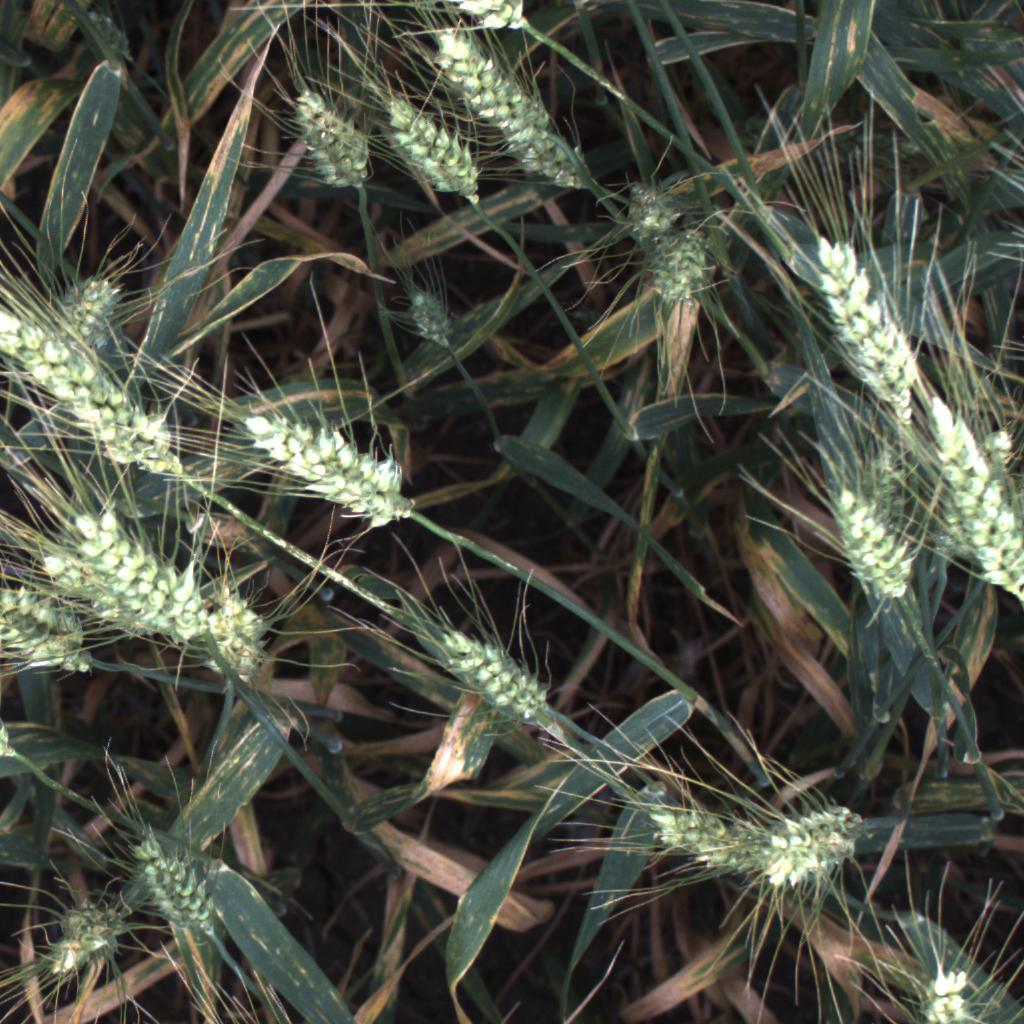0-0: (0, 302, 194, 488), (800, 222, 926, 432), (236, 404, 421, 531), (918, 386, 1023, 608), (58, 500, 217, 641), (24, 544, 217, 654), (427, 27, 561, 147), (428, 609, 557, 728), (631, 798, 815, 879), (929, 420, 1022, 574), (378, 88, 490, 208), (826, 475, 922, 608), (285, 85, 376, 194), (41, 888, 133, 983), (126, 826, 195, 941), (206, 586, 277, 694), (48, 258, 124, 357), (507, 126, 610, 198), (636, 221, 715, 312), (759, 802, 886, 857), (1, 615, 105, 680), (759, 840, 875, 897), (0, 580, 91, 651), (909, 951, 993, 1024), (155, 854, 223, 943), (614, 173, 690, 250), (397, 265, 461, 354), (438, 0, 540, 35), (0, 713, 25, 770)
